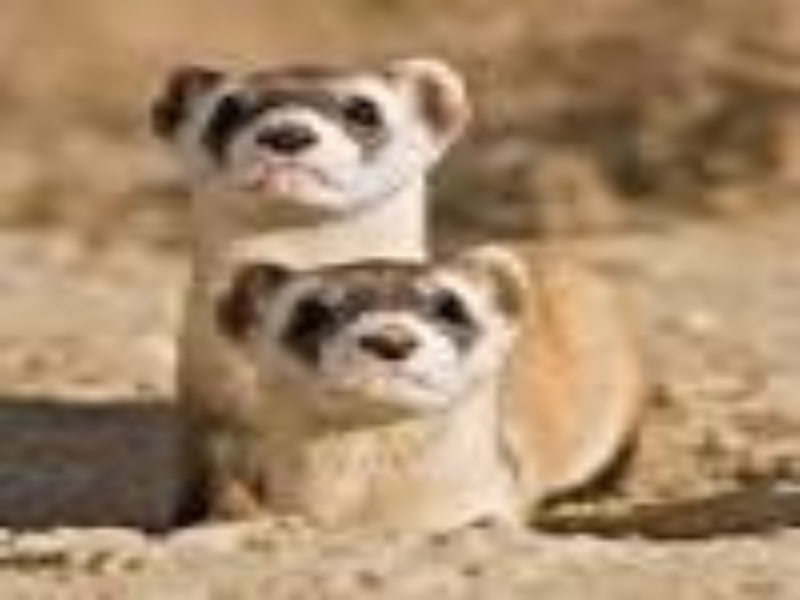minkish: (147, 50, 473, 522), (210, 244, 543, 540)
